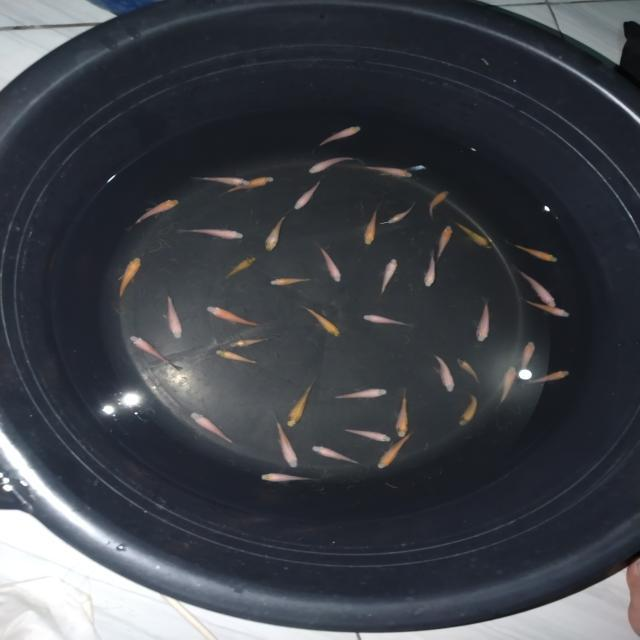nila: (128, 334, 180, 371), (127, 196, 181, 231), (516, 268, 558, 312), (375, 432, 419, 472), (218, 170, 276, 200), (189, 411, 238, 446), (271, 413, 301, 470), (284, 378, 318, 428), (298, 301, 342, 339), (307, 122, 365, 150), (509, 238, 564, 267), (450, 216, 494, 252), (202, 304, 268, 328), (310, 443, 368, 470), (425, 350, 457, 397), (116, 253, 144, 305), (260, 212, 294, 254), (304, 153, 364, 176), (453, 353, 492, 388), (291, 177, 324, 214), (317, 243, 347, 283), (217, 255, 257, 285), (337, 426, 401, 444), (472, 295, 495, 345), (454, 390, 482, 430), (163, 290, 184, 342), (394, 386, 414, 440), (524, 299, 572, 321), (178, 225, 246, 240), (496, 362, 518, 408), (360, 310, 410, 330), (356, 163, 414, 180), (524, 368, 573, 388), (211, 349, 264, 367), (361, 205, 384, 246), (326, 387, 392, 401), (377, 257, 400, 296), (189, 174, 253, 188), (434, 221, 454, 264), (518, 338, 540, 377), (256, 473, 320, 486), (384, 202, 418, 226), (426, 190, 452, 220), (228, 334, 279, 349), (420, 250, 438, 290), (267, 276, 313, 288)
